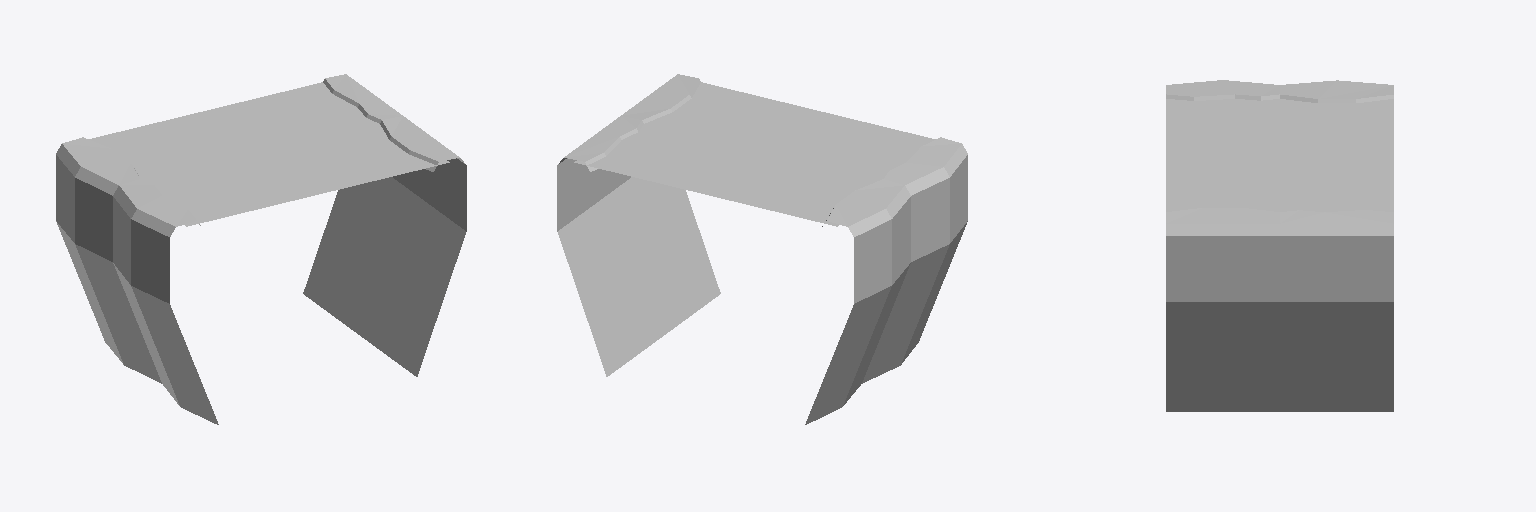
File: module_tile_02_ac.obj
3 renders of one model, left to right at view 1: azimuth 30°, elevation 25°; view 2: azimuth 150°, elevation 25°; view 3: azimuth 270°, elevation 25°, orthographic.
Parts seen in each view (by area): view 1: module_tile_02_ac; view 2: module_tile_02_ac; view 3: module_tile_02_ac.
Part boxes in pixels (bbox=[...]): module_tile_02_ac: bbox=[56, 74, 466, 424]; module_tile_02_ac: bbox=[557, 74, 967, 424]; module_tile_02_ac: bbox=[1166, 80, 1393, 411].
Bounding box in the file's own units: 621 × 406 × 400.